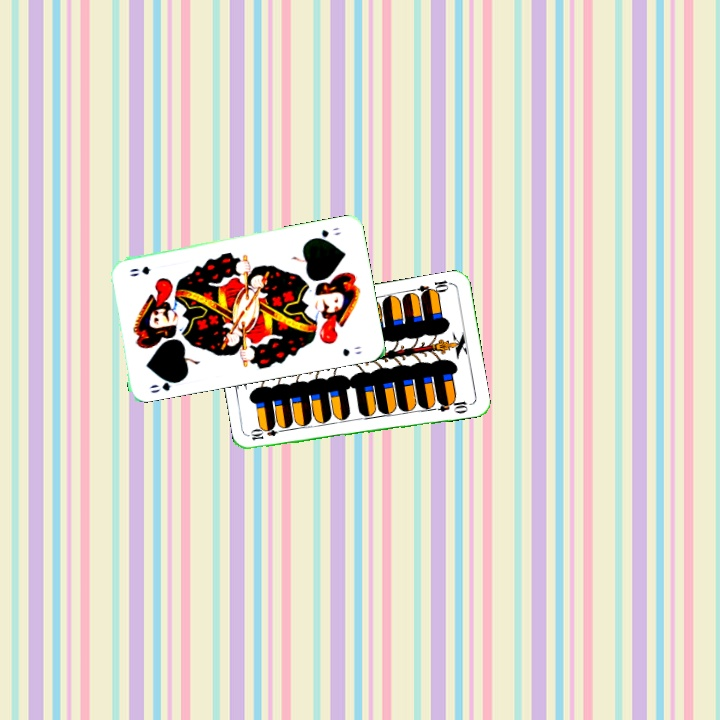E10: (414, 276, 454, 299), (247, 425, 288, 443)
GO: (145, 374, 183, 395), (308, 223, 344, 243)
